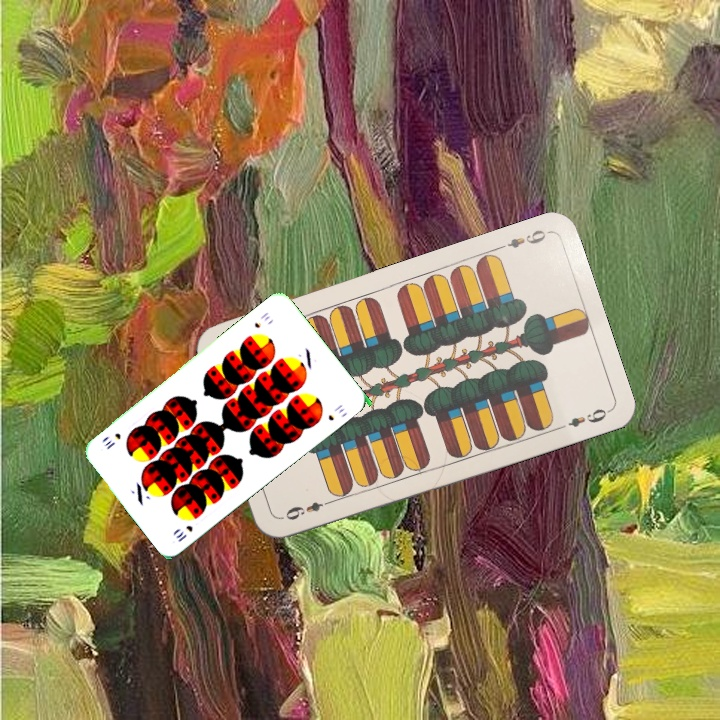E9: (493, 225, 551, 253), (281, 496, 335, 523)
S10: (172, 521, 195, 545), (250, 308, 273, 331)
